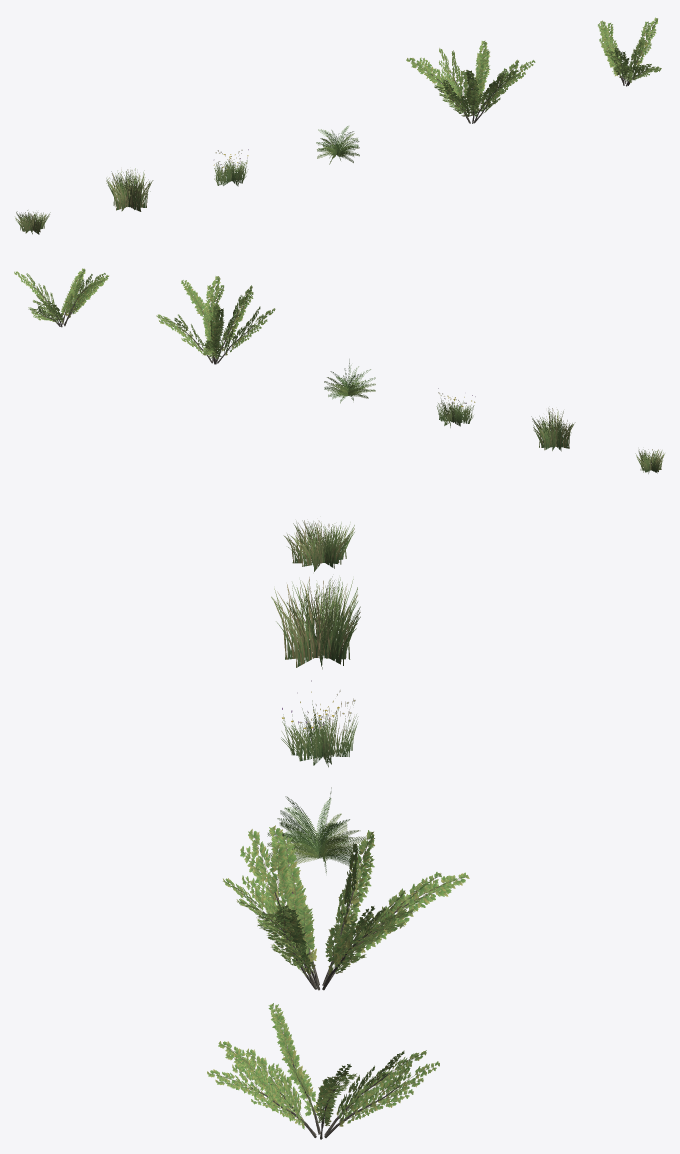
Rendered from veg_3_game.glb.
3 renders of one model, top to bottom at view 1: azimuth 30°, elevation 25°; view 2: azimuth 150°, elevation 25°; view 3: azimuth 270°, elevation 25°, orthographic. The views are drawn at different scales.
Visible parts, largest first — view 1: shrub_leafy_a, shrub_leafy_b, grass_green_tall, fern_clump, grass_meadow_flowers, grass_green_short; view 2: shrub_leafy_a, shrub_leafy_b, grass_green_tall, fern_clump, grass_meadow_flowers, grass_green_short; view 3: shrub_leafy_a, shrub_leafy_b, grass_green_tall, fern_clump, grass_meadow_flowers, grass_green_short.
Part boxes in pixels (<box>): shrub_leafy_a: <box>406,40,535,123</box>; shrub_leafy_b: <box>598,17,661,86</box>; grass_green_tall: <box>106,168,153,211</box>; fern_clump: <box>316,126,359,164</box>; grass_meadow_flowers: <box>213,149,248,186</box>; grass_green_short: <box>15,210,50,234</box>; shrub_leafy_a: <box>156,276,275,364</box>; shrub_leafy_b: <box>14,268,108,327</box>; grass_green_tall: <box>531,408,575,451</box>; fern_clump: <box>324,359,375,403</box>; grass_meadow_flowers: <box>436,388,475,427</box>; grass_green_short: <box>635,449,664,473</box>; shrub_leafy_a: <box>223,825,469,990</box>; shrub_leafy_b: <box>207,1003,439,1139</box>; grass_green_tall: <box>271,576,360,669</box>; fern_clump: <box>267,787,366,873</box>; grass_meadow_flowers: <box>281,680,358,767</box>; grass_green_short: <box>283,520,354,571</box>.
Size of the model in its own units: 17.16 by 1.84 by 3.1.
Materials: 7 (7 with a texture image).
